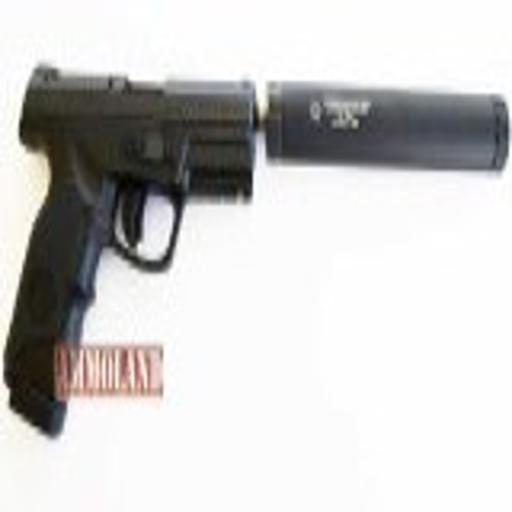Handgun: (2, 63, 511, 455)
